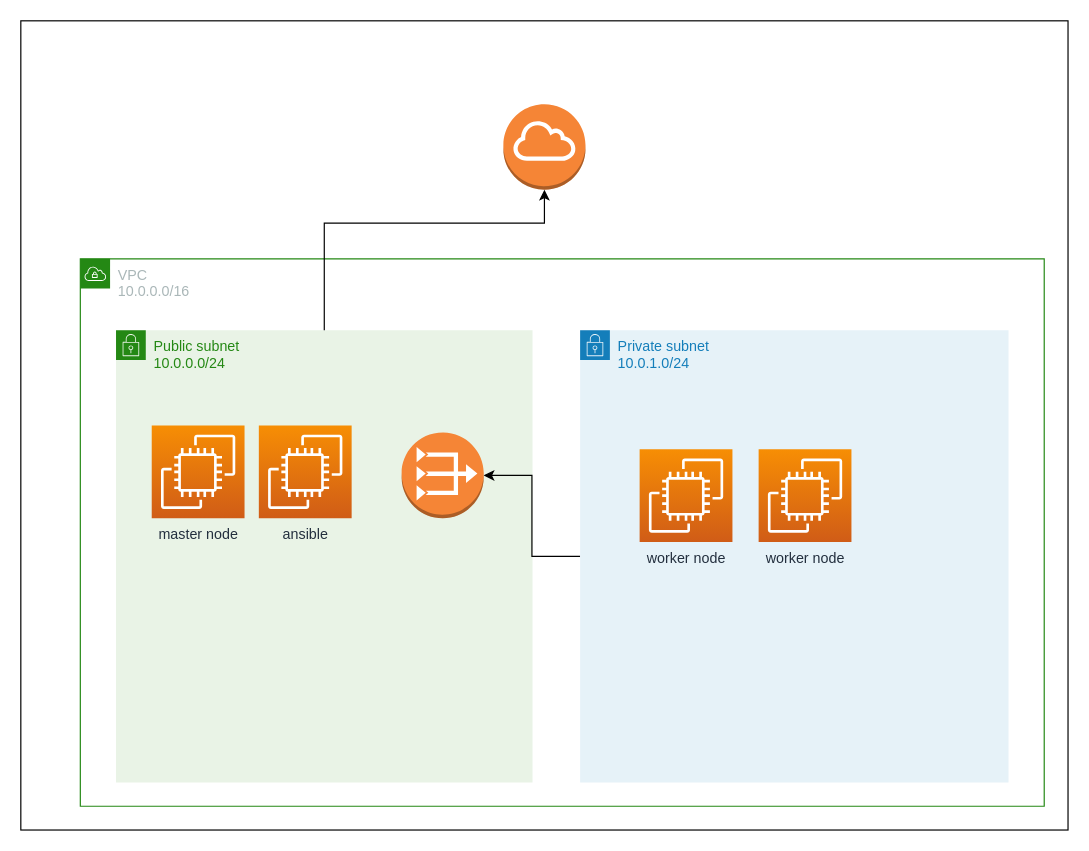
Image size: 1089x851. Some labels were removed from this diagram. The shapes that lost their labels are listed below. From the top down, each one's centre as x and y in pixels, then its label:
At (543,146): "Internet Gateway".
At (442,474): "nat gateway".
